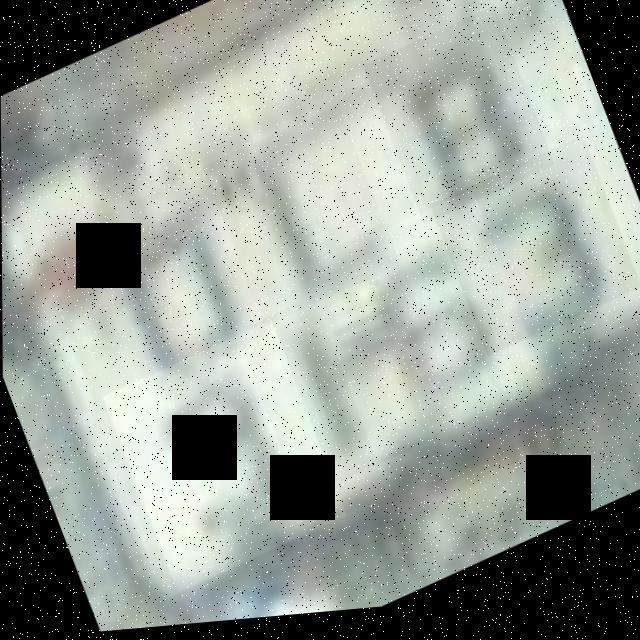1: (235, 274, 431, 509)
3: (102, 320, 347, 601), (429, 142, 640, 370)
6: (303, 193, 547, 471)
B: (363, 11, 555, 236)
J: (202, 107, 400, 336)
